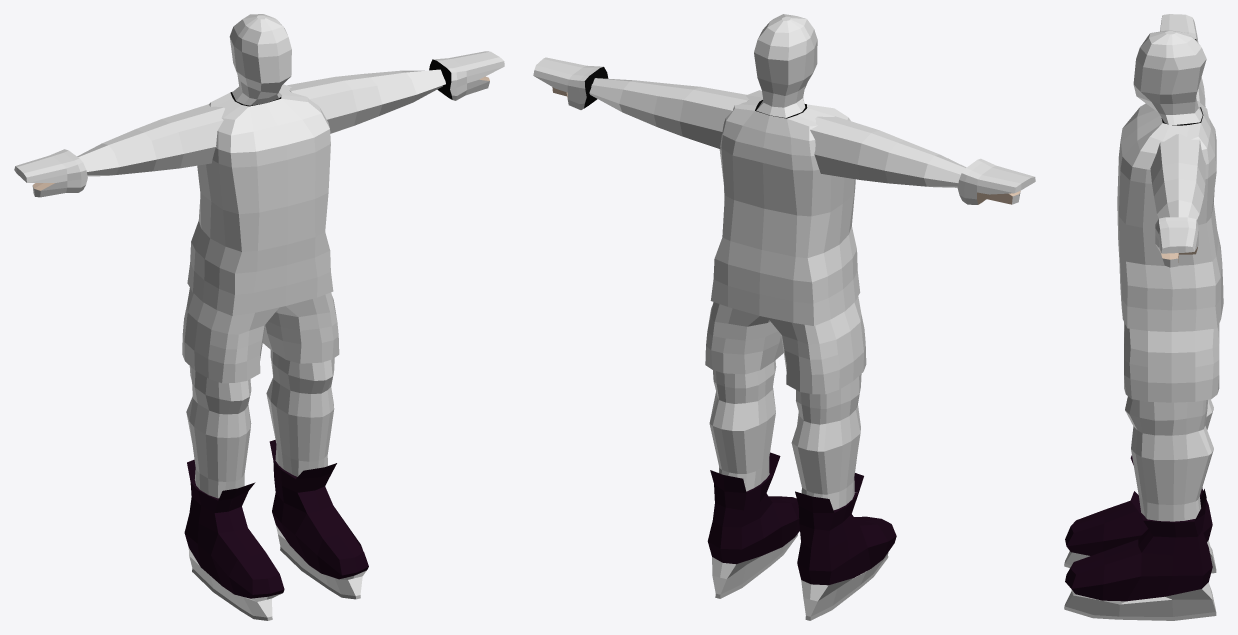
Rendered from second skater 2.glb.
The picture shows the model from 3 angles, left to right: view 1: azimuth 30°, elevation 25°; view 2: azimuth 150°, elevation 25°; view 3: azimuth 270°, elevation 25°; orthographic projection. The views are drawn at different scales.
Visible parts, largest first — view 1: Torso, Skates, Legs, Arms, Pants, Gloves, Head; view 2: Torso, Skates, Legs, Arms, Pants, Head, Gloves; view 3: Torso, Skates, Legs, Pants, Head, Arms, Gloves.
Part boxes in pixels (left/top/right/bottom): Torso: left=187, top=84, right=333, bottom=315; Skates: left=184, top=440, right=368, bottom=620; Legs: left=186, top=350, right=334, bottom=498; Arms: left=77, top=69, right=445, bottom=176; Pants: left=182, top=288, right=339, bottom=383; Gloves: left=14, top=51, right=504, bottom=197; Head: left=229, top=14, right=291, bottom=105; Torso: left=710, top=90, right=860, bottom=325; Skates: left=707, top=452, right=896, bottom=620; Legs: left=709, top=360, right=861, bottom=510; Arms: left=589, top=78, right=966, bottom=187; Pants: left=705, top=296, right=866, bottom=394; Head: left=754, top=14, right=817, bottom=117; Gloves: left=533, top=57, right=1035, bottom=204; Torso: left=1117, top=101, right=1223, bottom=331; Skates: left=1064, top=455, right=1216, bottom=620; Legs: left=1125, top=396, right=1213, bottom=521; Pants: left=1124, top=322, right=1219, bottom=402; Head: left=1133, top=30, right=1206, bottom=125; Arms: left=1150, top=77, right=1205, bottom=219; Gloves: left=1155, top=14, right=1198, bottom=267.
Bounding box in the file's own units: 2.2 × 2.49 × 0.6344.
